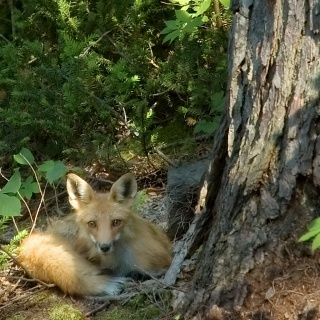Fox: (11, 171, 175, 296)
